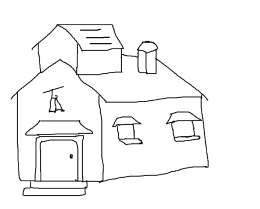chimney: (138, 40, 154, 70)
door: (25, 118, 95, 188)
open_window: (166, 111, 202, 141), (113, 115, 142, 144)
roof: (10, 53, 208, 109), (32, 23, 123, 50)
wall: (97, 94, 213, 186)
